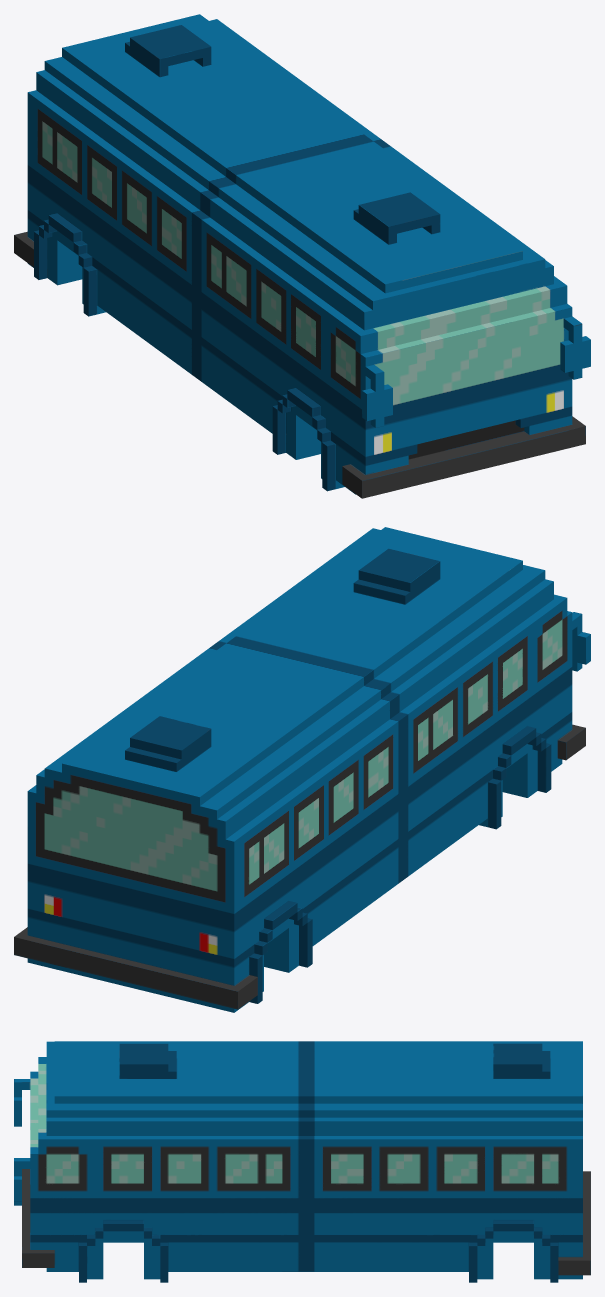
The model's file is Bus_3.obj.
3 renders of one model, top to bottom at view 1: azimuth 30°, elevation 25°; view 2: azimuth 150°, elevation 25°; view 3: azimuth 270°, elevation 25°, orthographic. The views are drawn at different scales.
Visible parts, largest first — view 1: Bus_3_Bus_3.001; view 2: Bus_3_Bus_3.001; view 3: Bus_3_Bus_3.001.
Boxes of the visible parts, x1,y1,x2,y2 form: Bus_3_Bus_3.001: [14, 14, 590, 498]; Bus_3_Bus_3.001: [14, 527, 590, 1012]; Bus_3_Bus_3.001: [14, 1041, 590, 1282].
Size of the model in its own units: 2.6 by 2.5 by 7.1.
